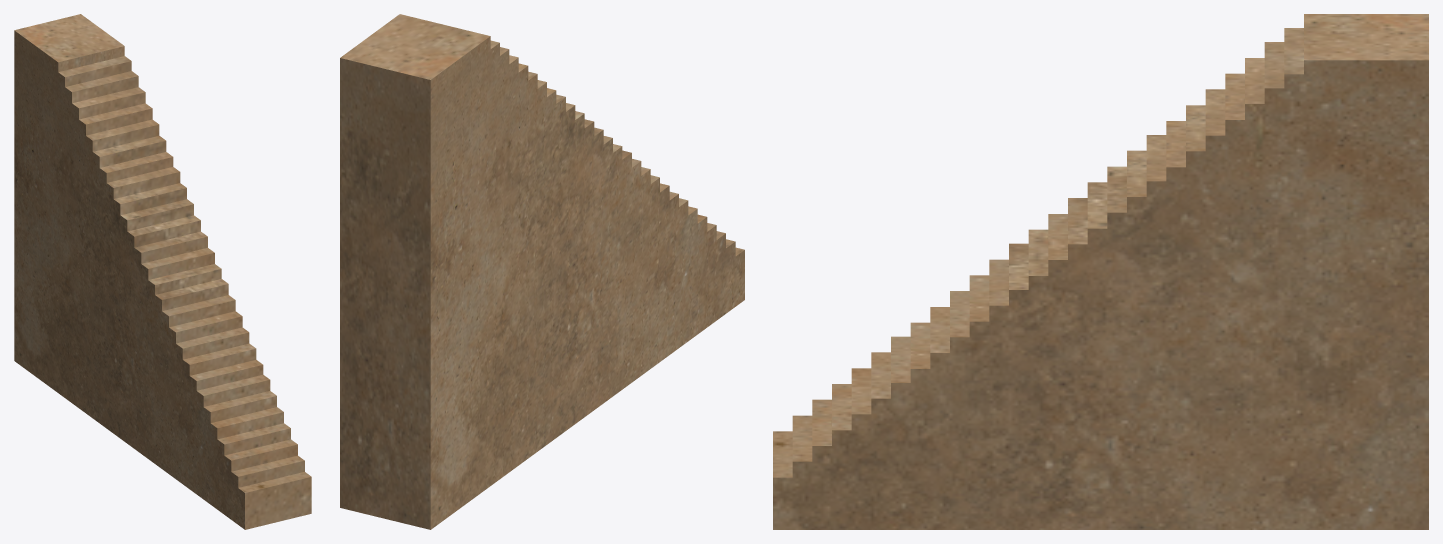
File: stair.fbx
3 views of the same model, side by side, from view 1: azimuth 30°, elevation 25°; view 2: azimuth 150°, elevation 25°; view 3: azimuth 270°, elevation 25° (orthographic). The views are drawn at different scales.
Parts seen in each view (by area): view 1: Cube.002; view 2: Cube.002; view 3: Cube.002.
Boxes of the visible parts, x1,y1,x2,y2 form: Cube.002: (14, 14, 311, 529); Cube.002: (340, 14, 744, 529); Cube.002: (773, 14, 1428, 529).
Bounding box in the file's own units: 150 × 711 × 900.
